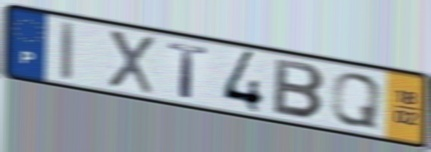4: (219, 47, 268, 117)
B: (271, 56, 328, 122)
I: (59, 19, 77, 84)
Q: (328, 71, 384, 131)
T: (166, 40, 211, 101)
X: (106, 27, 156, 98)
